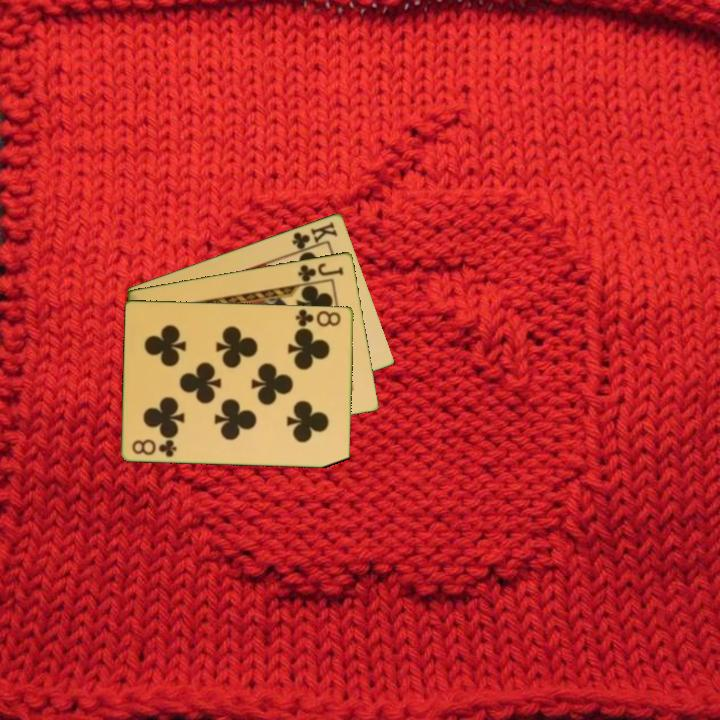8c: (292, 306, 343, 331), (129, 435, 180, 460)
Jc: (294, 259, 347, 284)
Kc: (289, 218, 341, 256)
